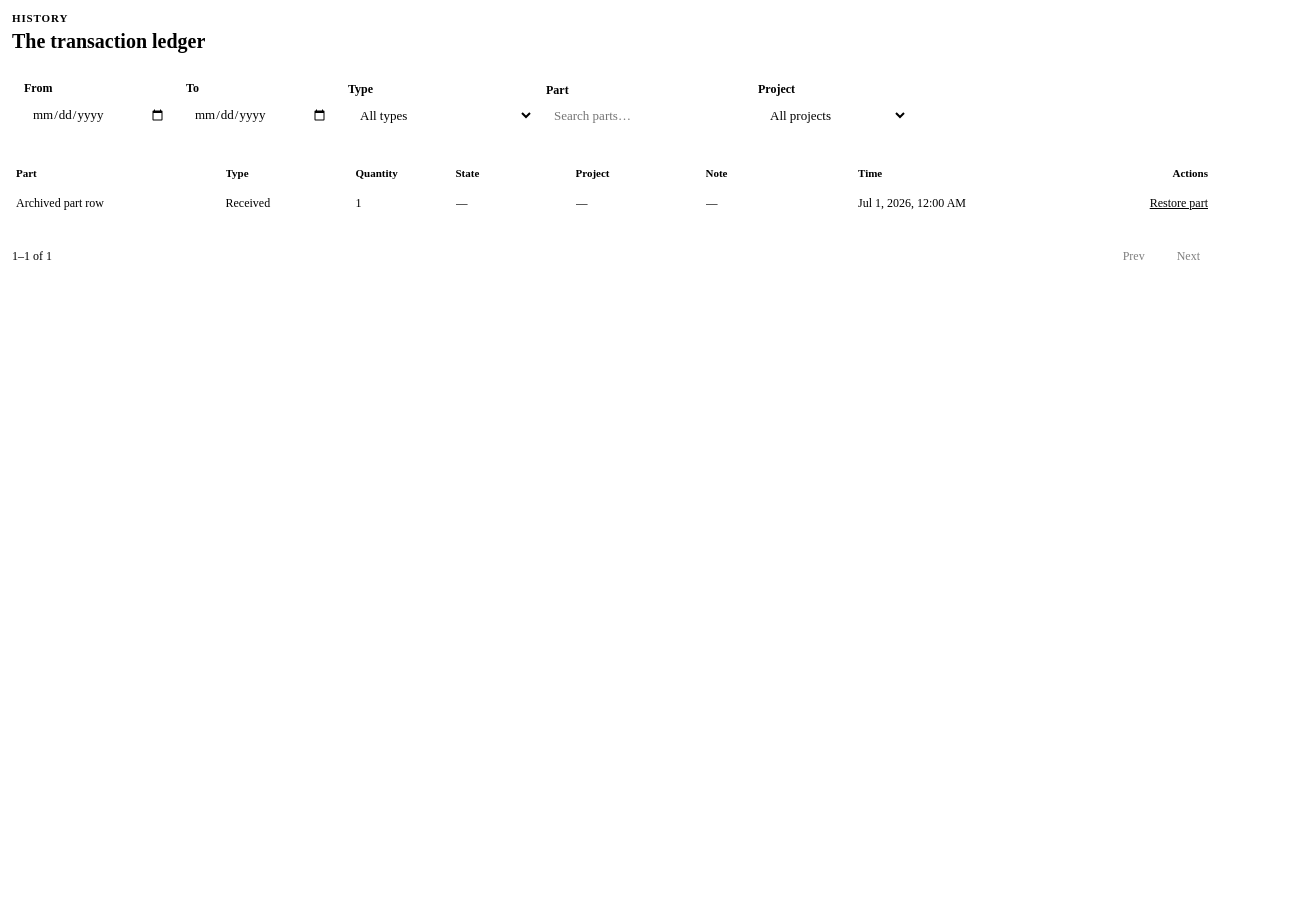
Test: History › shows a restore action for a row referencing an archived part
The width and height of the screenshot is (1292, 912).
Click the button "Restore part": (1179, 203) [1150,196,1208,210]
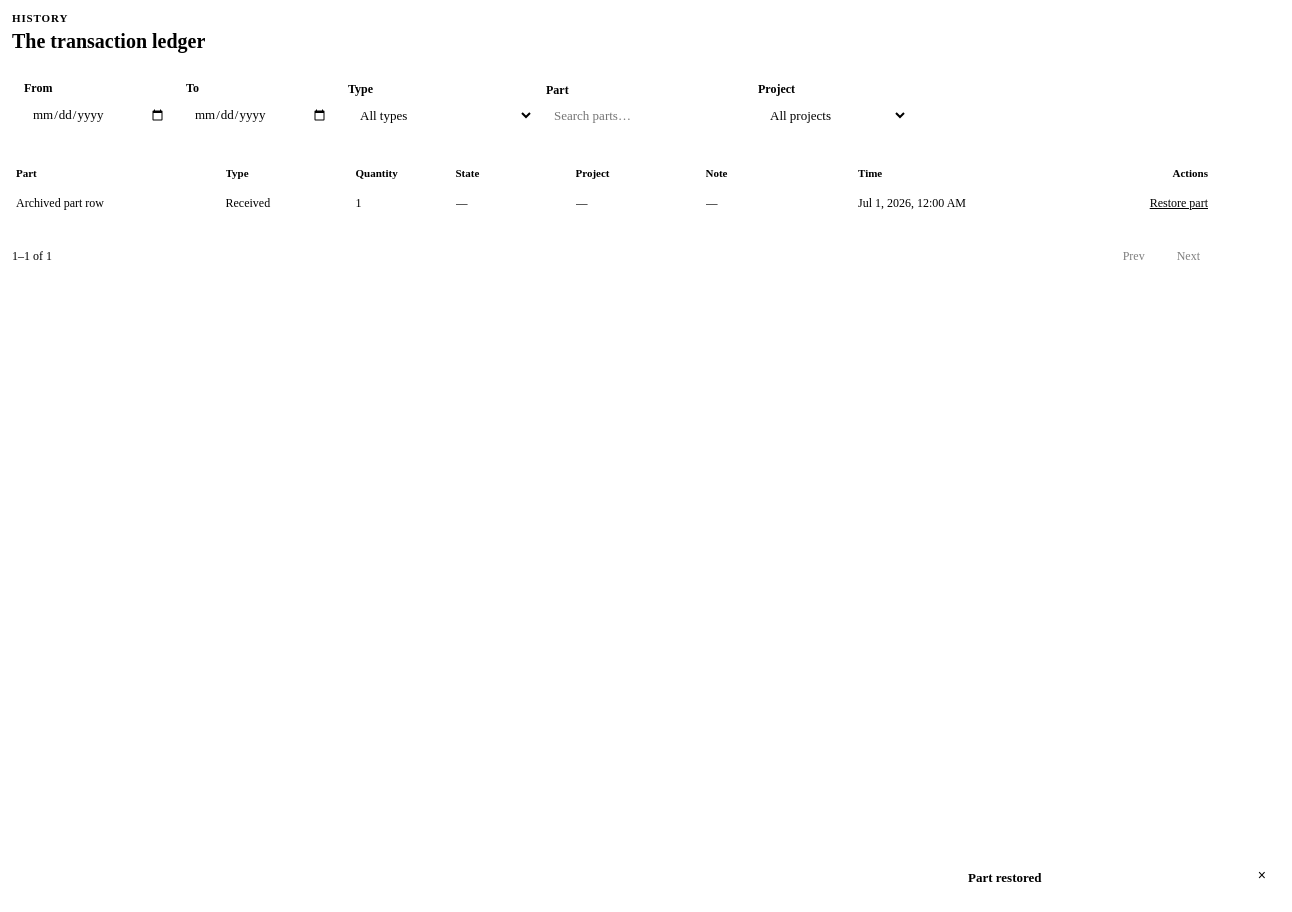
Expected: the text "Part restored" is shown, [968,870,1042,885]
